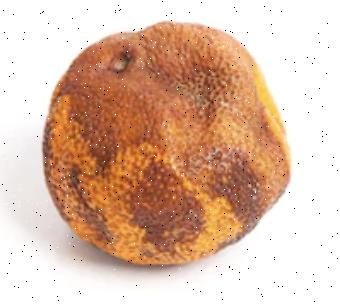Orange Rotten: (41, 19, 313, 273)
